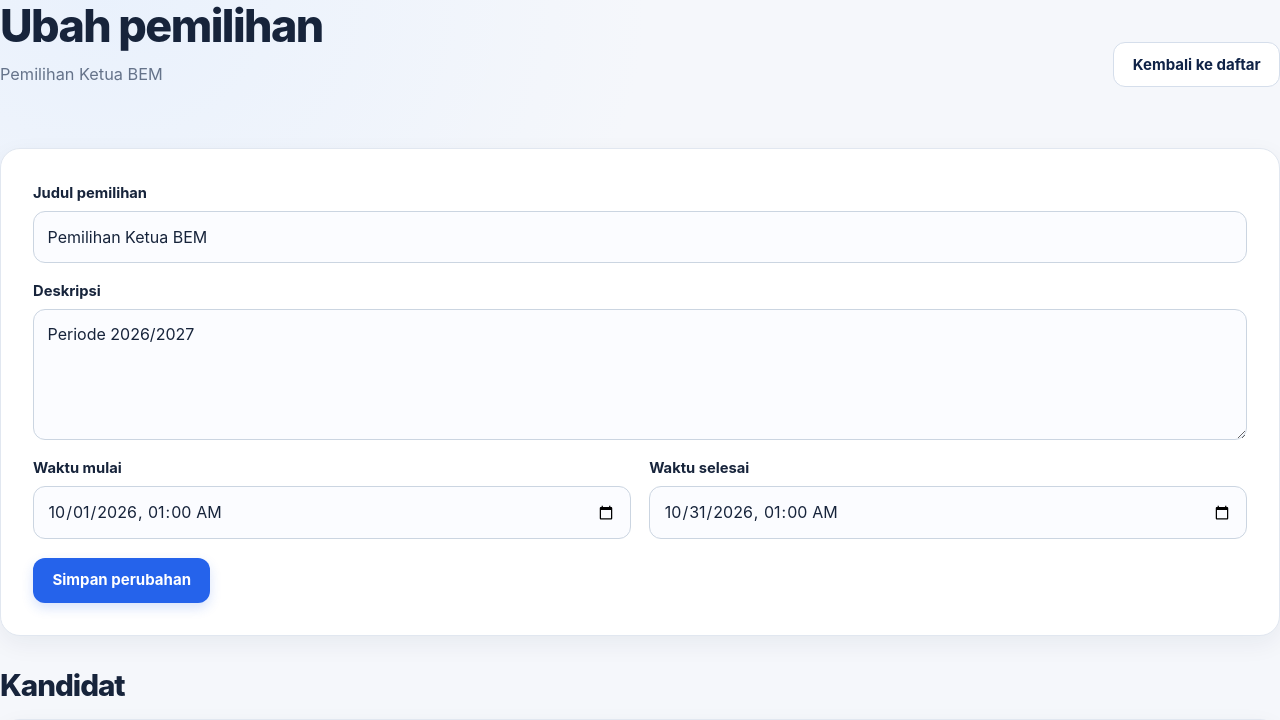
Scenario: ElectionFormPage › memperbarui pemilihan yang sudah ada
Replace the text in the field labelled "Judul pemilihan" with "Pemilihan Ketua BEM 2027" at point(640, 237), box [33,211,1247,263]
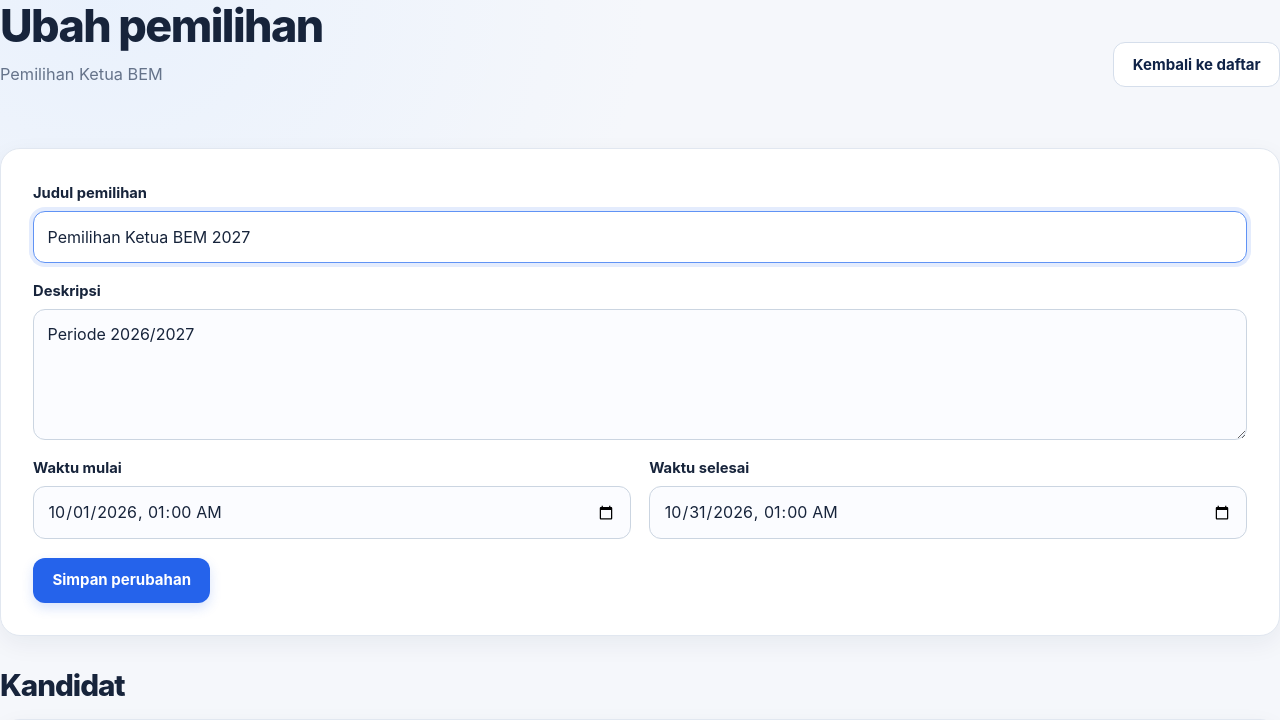
Click the button "Simpan perubahan" at point(122, 580), box [33,558,210,602]
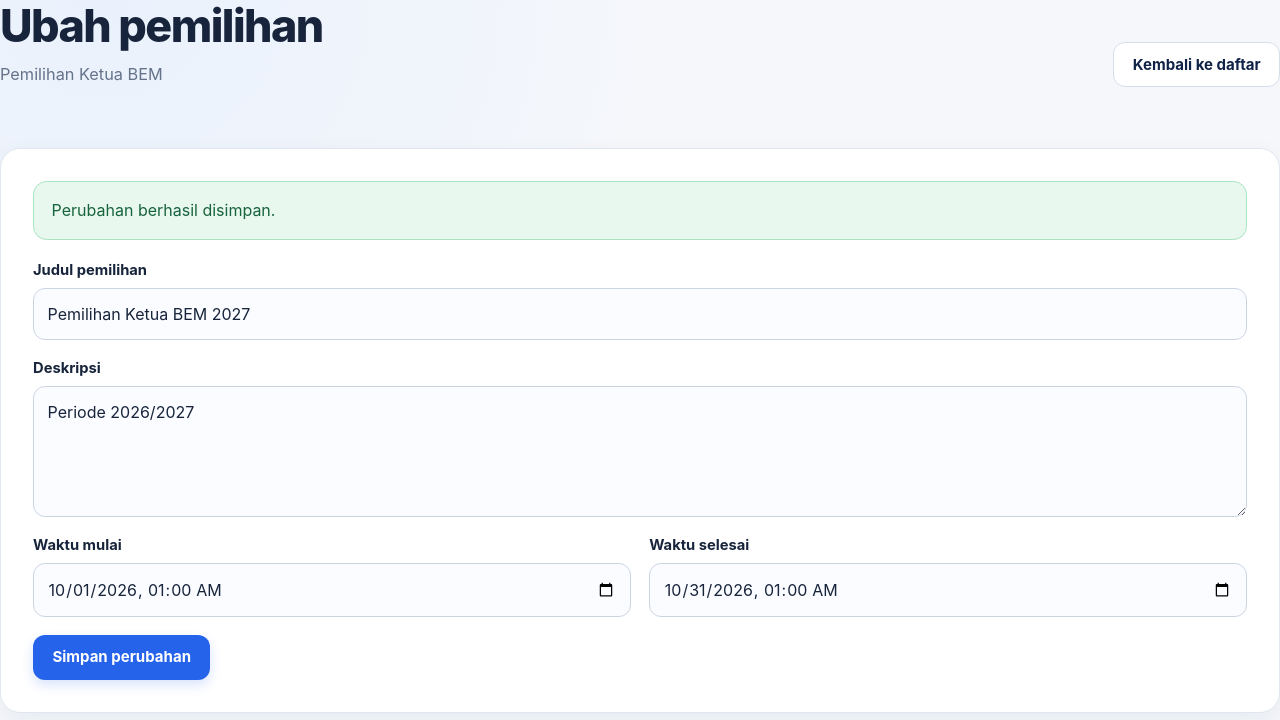
Expected: the text "Perubahan berhasil disimpan." is shown, [33,181,1247,240]
